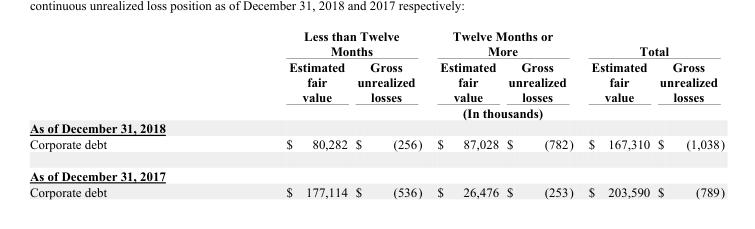table: (28, 28, 724, 198)
table column: (28, 28, 195, 198), (195, 28, 350, 198), (350, 28, 429, 198), (502, 28, 580, 198), (429, 28, 502, 198), (580, 28, 653, 198), (653, 28, 724, 198)
table column header: (28, 28, 724, 120)
table projected row header: (28, 159, 724, 183), (28, 120, 724, 135)
table row: (28, 58, 724, 104), (28, 28, 724, 58), (28, 135, 724, 159), (28, 159, 724, 183), (28, 104, 724, 120), (28, 120, 724, 135), (28, 183, 724, 198)
table spanning cell: (195, 104, 724, 120), (195, 28, 429, 58), (429, 28, 580, 58), (580, 28, 724, 58)
